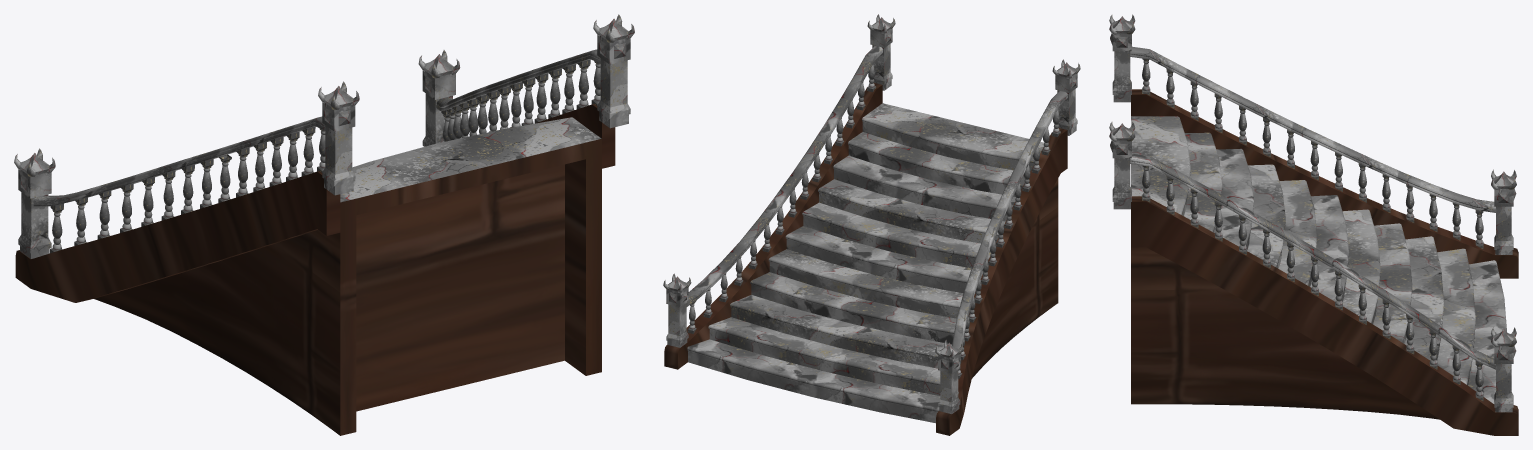
Rendered from Staircase_FINAL.fbx.
3 renders of one model, left to right at view 1: azimuth 30°, elevation 25°; view 2: azimuth 150°, elevation 25°; view 3: azimuth 270°, elevation 25°, orthographic. The views are drawn at different scales.
Visible parts, largest first — view 1: Staircase; view 2: Staircase; view 3: Staircase.
Part boxes in pixels (bbox=[...]): Staircase: bbox=[14, 14, 634, 435]; Staircase: bbox=[663, 14, 1080, 435]; Staircase: bbox=[1109, 14, 1518, 435].
Size of the model in its own units: 624 by 491 by 642.
